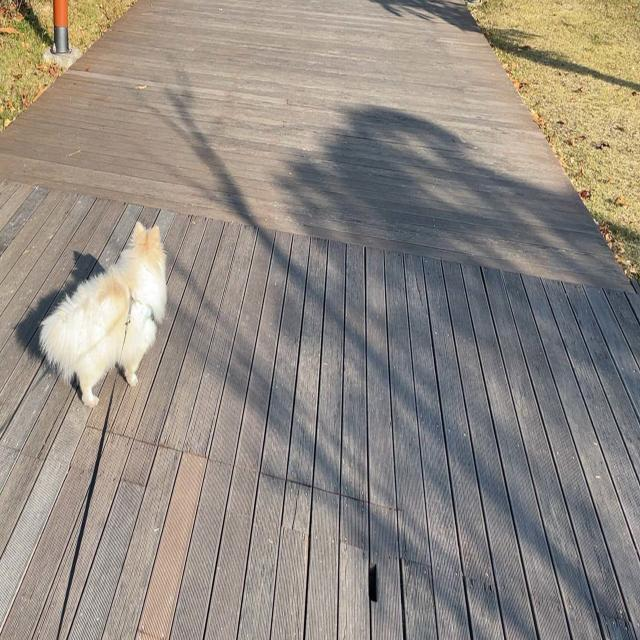Dog: (39, 220, 168, 410)
